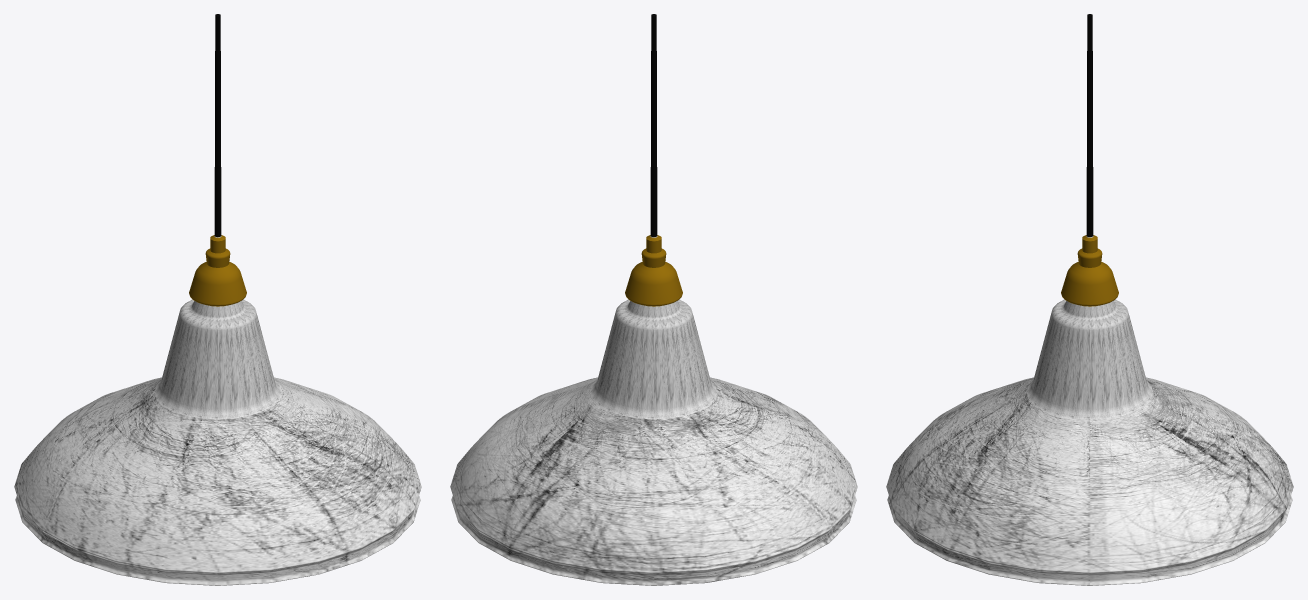
Rendered from circular_lantern.glb.
The picture shows the model from 3 angles, left to right: view 1: azimuth 30°, elevation 25°; view 2: azimuth 150°, elevation 25°; view 3: azimuth 270°, elevation 25°; orthographic projection.
Visible parts, largest first — view 1: Object_4, Object_3, Object_5; view 2: Object_4, Object_3, Object_5; view 3: Object_4, Object_3, Object_5.
Boxes of the visible parts, <box> form: Object_4: <box>14,236,421,585</box>; Object_3: <box>189,235,246,306</box>; Object_5: <box>214,14,221,236</box>; Object_4: <box>450,236,857,585</box>; Object_3: <box>625,235,682,306</box>; Object_5: <box>650,14,657,236</box>; Object_4: <box>886,236,1293,585</box>; Object_3: <box>1061,235,1118,306</box>; Object_5: <box>1086,14,1093,236</box>.
Bounding box in the file's own units: 570 × 819 × 570.
4 materials, 1 textured.
